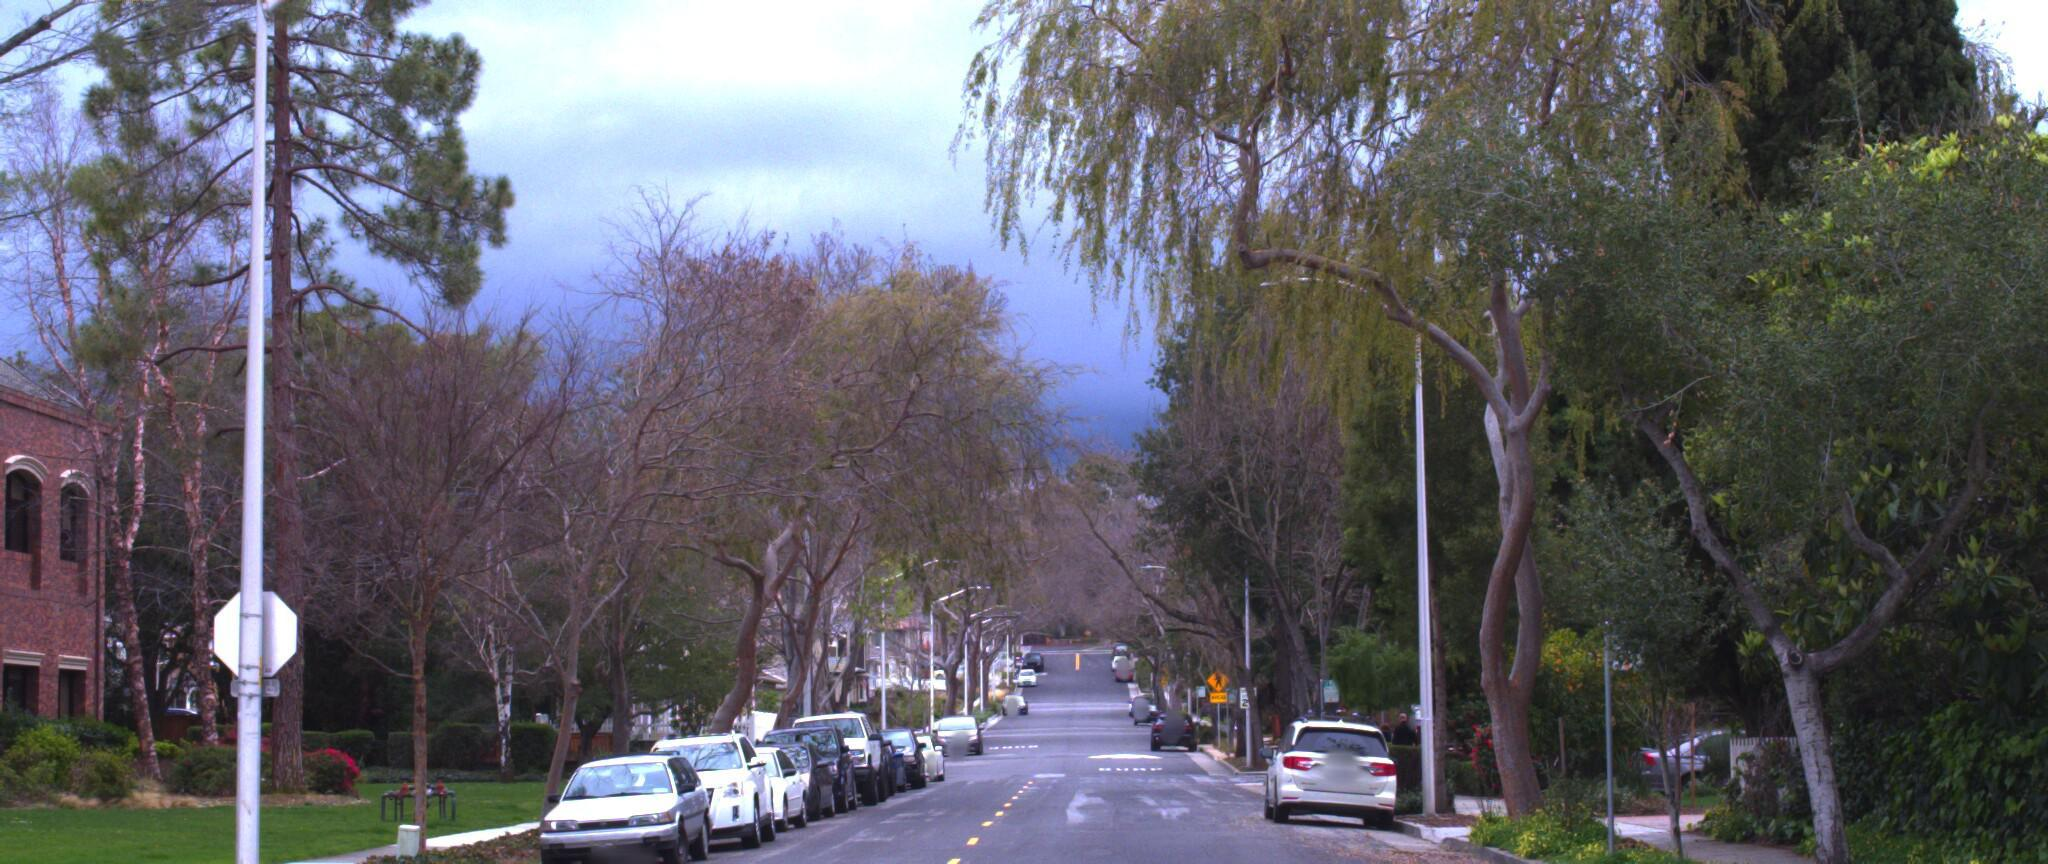car: (620, 724, 792, 851), (539, 748, 721, 864), (1264, 703, 1408, 827), (677, 741, 824, 841), (775, 707, 900, 810)
